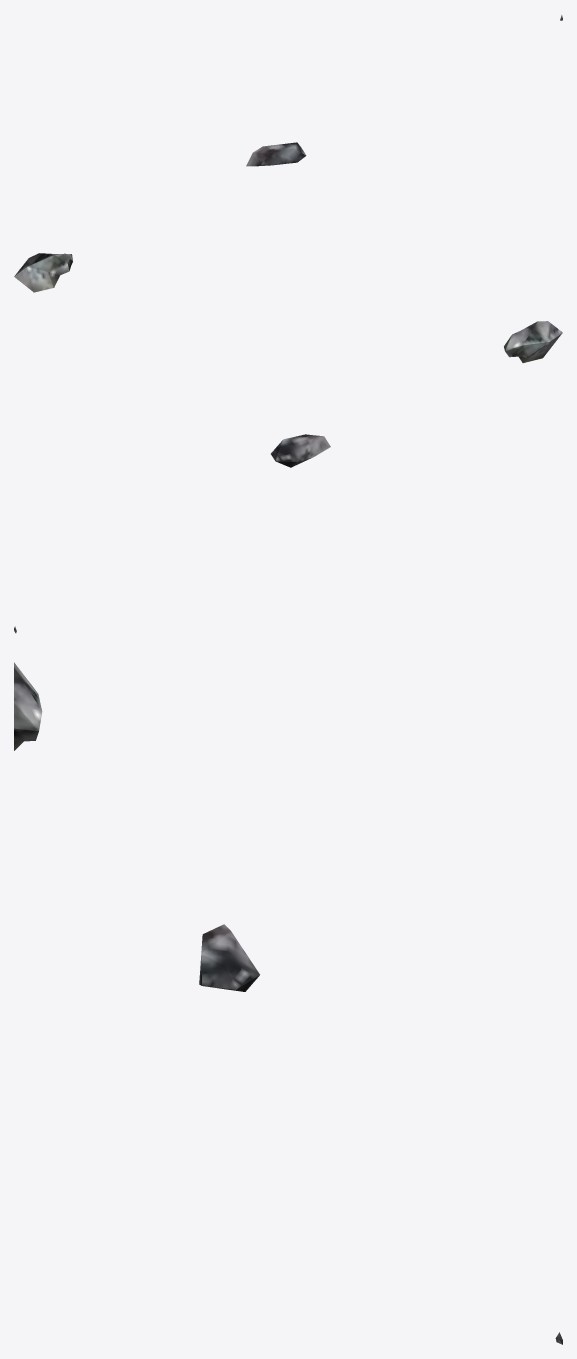
3 views of the same model, one above another, from view 1: azimuth 30°, elevation 25°; view 2: azimuth 210°, elevation 25°; view 3: azimuth 270°, elevation 25° (orthographic). The views are drawn at different scales.
Bounding box in the file's own units: 0.7627 × 0.042 × 0.2824.
1 material, 1 textured.
